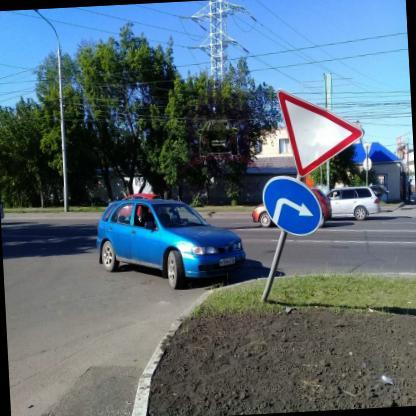road_sign: (278, 91, 362, 175), (264, 176, 322, 236)
